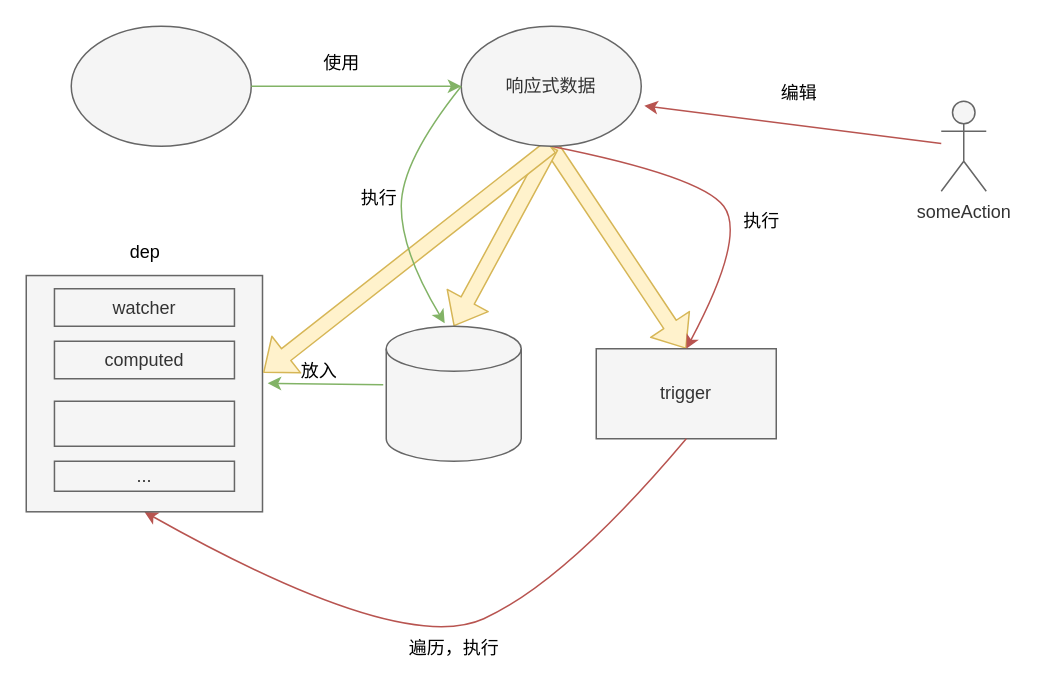
The diagram is 1037 pixels wide and 698 high, and some of its shapes have lost their labels. The box of each missing label's shape, as (x1, y1, x2, y2) in pixels:
someEffect watch/computed: (70, 25, 251, 146)
track: (385, 325, 521, 461)
vdom: (53, 400, 234, 446)
